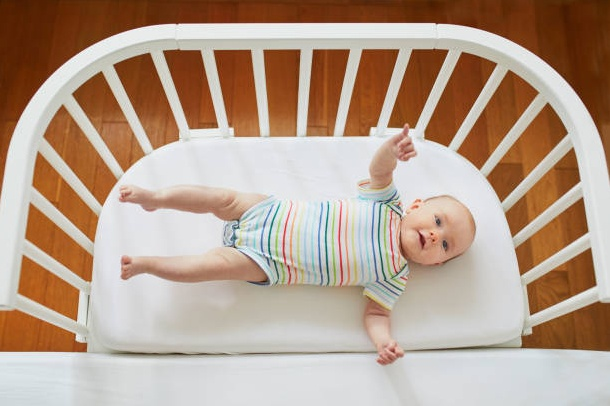baby: (119, 126, 474, 364)
crib: (0, 24, 609, 403)
